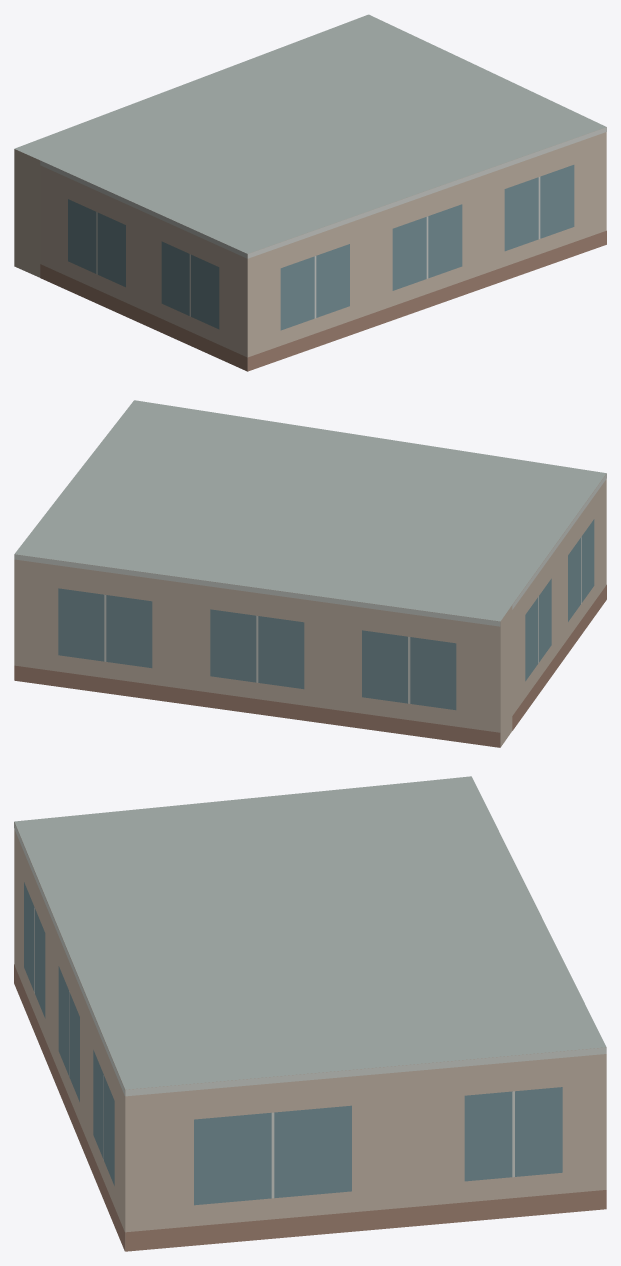
File: survey-upis-32613773.glb
3 renders of one model, top to bottom at view 1: azimuth 30°, elevation 25°; view 2: azimuth 150°, elevation 25°; view 3: azimuth 270°, elevation 25°, orthographic. The views are drawn at different scales.
Parts seen in each view (by area): view 1: survey-upis-32613773.tmp; view 2: survey-upis-32613773.tmp; view 3: survey-upis-32613773.tmp.
Part boxes in pixels (x1,y1,x2,y2): survey-upis-32613773.tmp: [14, 14, 606, 371]; survey-upis-32613773.tmp: [14, 400, 606, 747]; survey-upis-32613773.tmp: [14, 776, 606, 1251].
Bounding box in the file's own units: 12.68 × 3.05 × 10.13.
